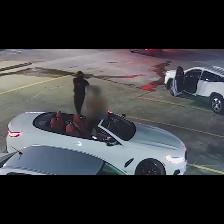person: (87, 87, 107, 132), (73, 71, 89, 115)
